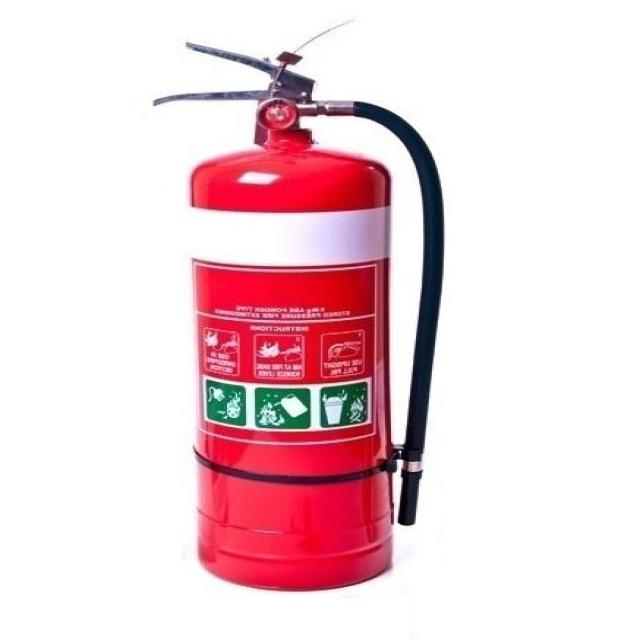fire_extinguisher: (136, 27, 459, 599)
